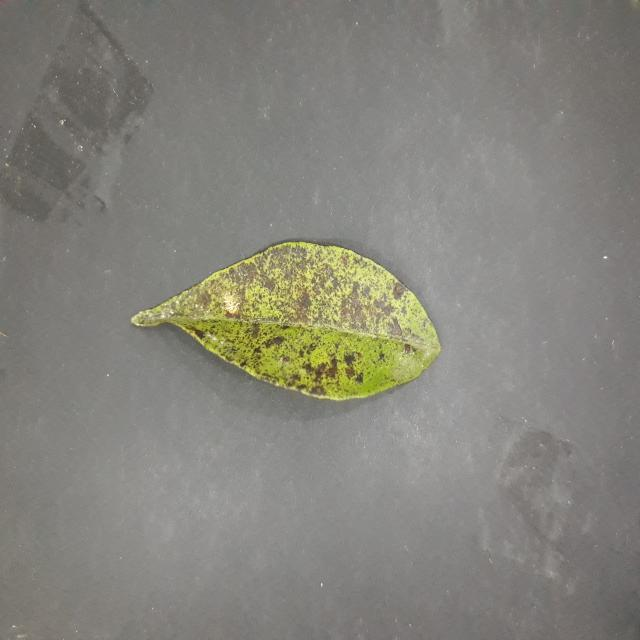greasy_spot: (131, 242, 440, 400)
